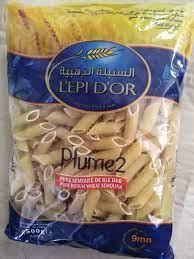plume: (3, 1, 192, 258)
